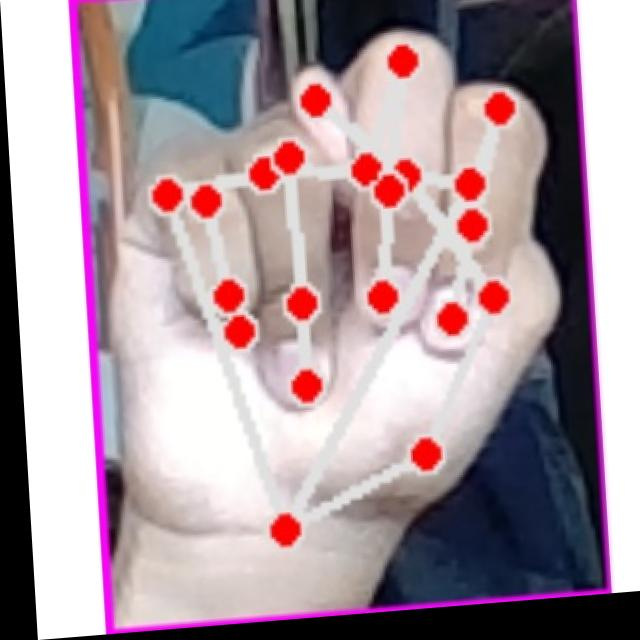N: (87, 17, 583, 582)
